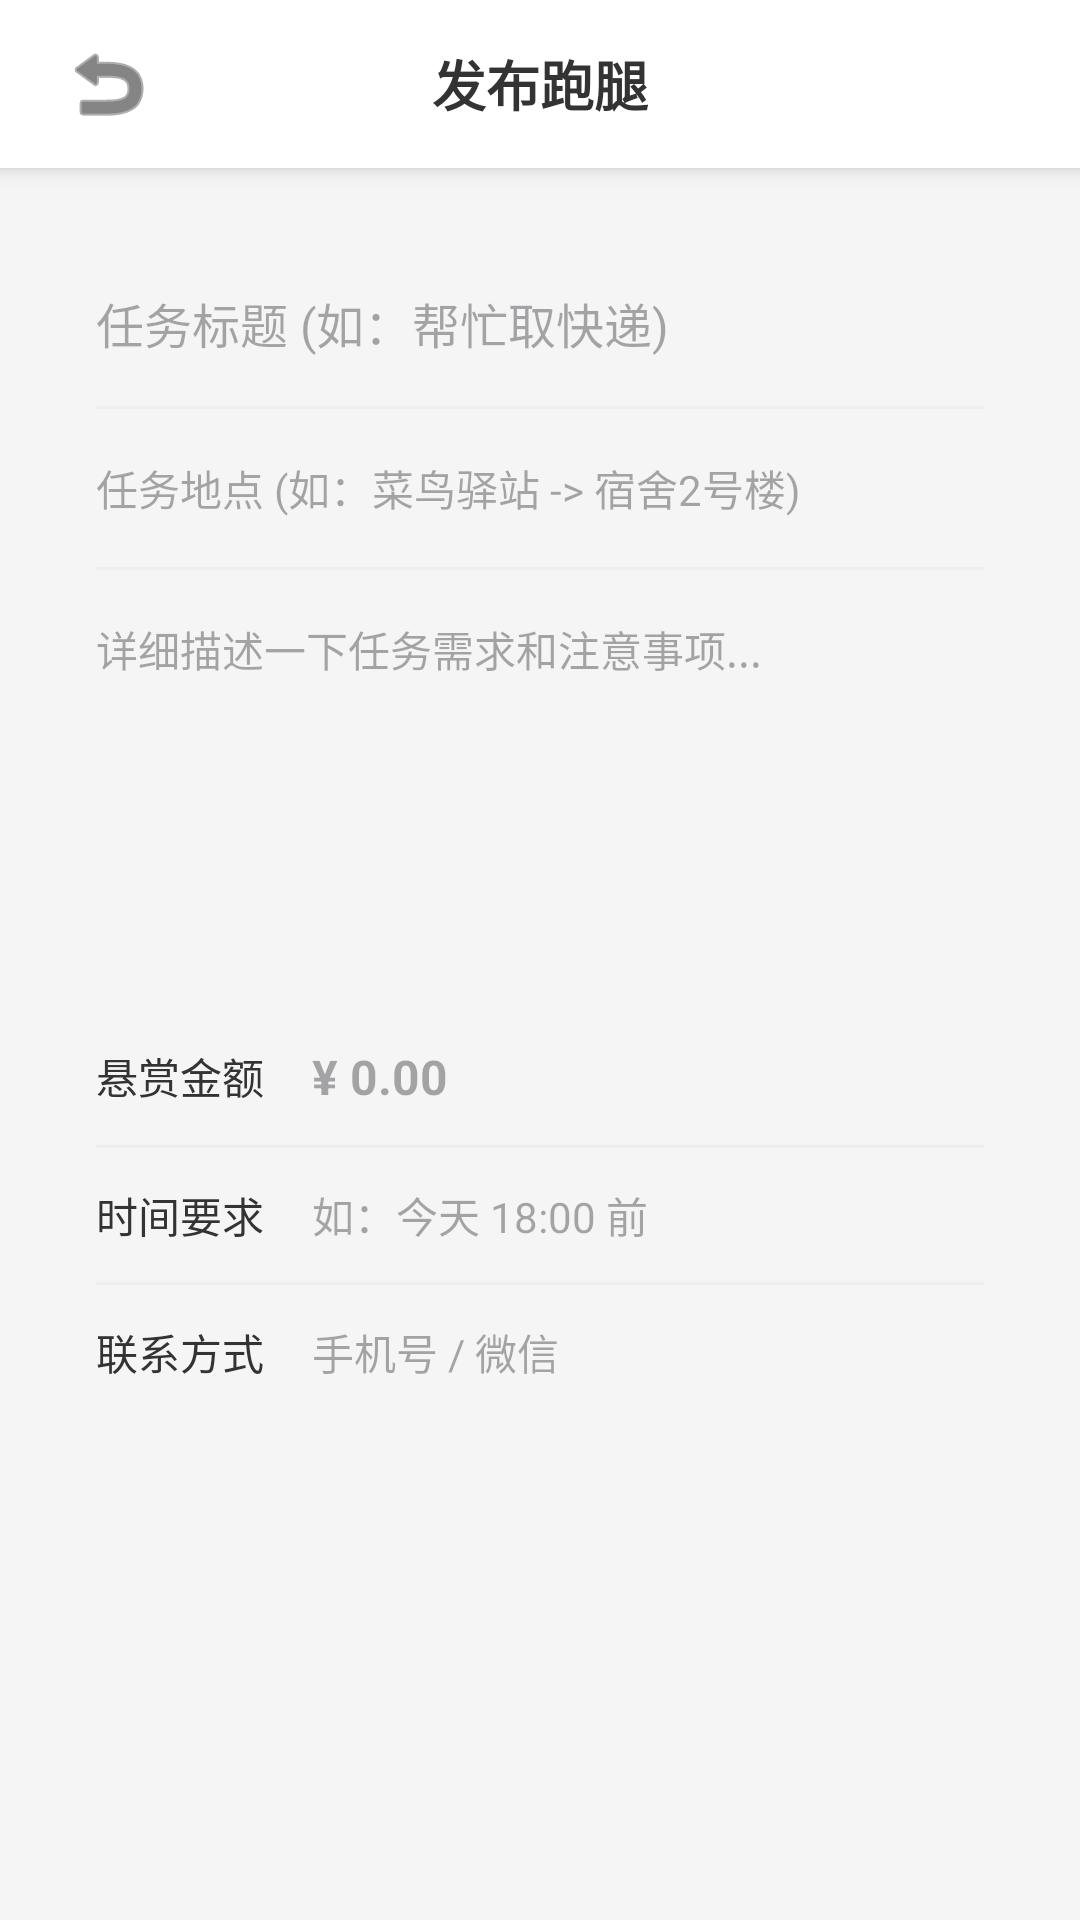

Icons on this 1080x1920 Android screen, each with the point to tap as (x,y):
revert: (109,84)
